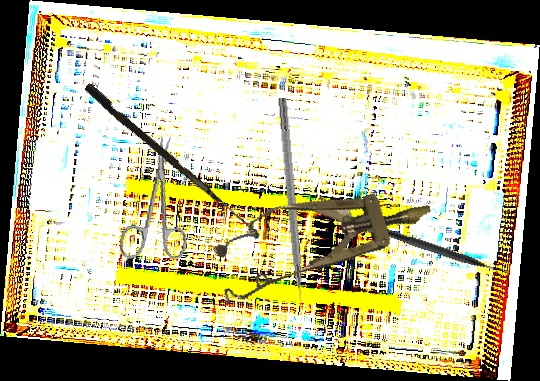Chopper: (349, 217, 509, 286)
Hook Surgical: (81, 82, 267, 237), (275, 97, 308, 321)
Iris Scissors: (117, 131, 202, 267)
Speculum: (206, 168, 441, 307)
